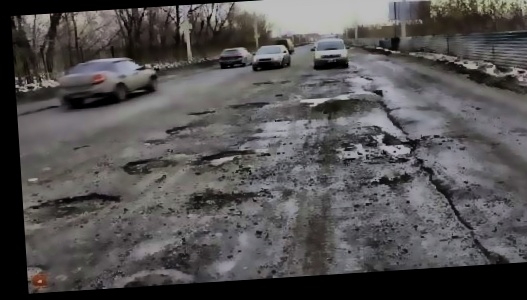pothole: (23, 190, 122, 220), (199, 146, 251, 167), (190, 189, 238, 211), (120, 154, 161, 177), (232, 98, 272, 112), (166, 122, 190, 135), (189, 108, 218, 116)
